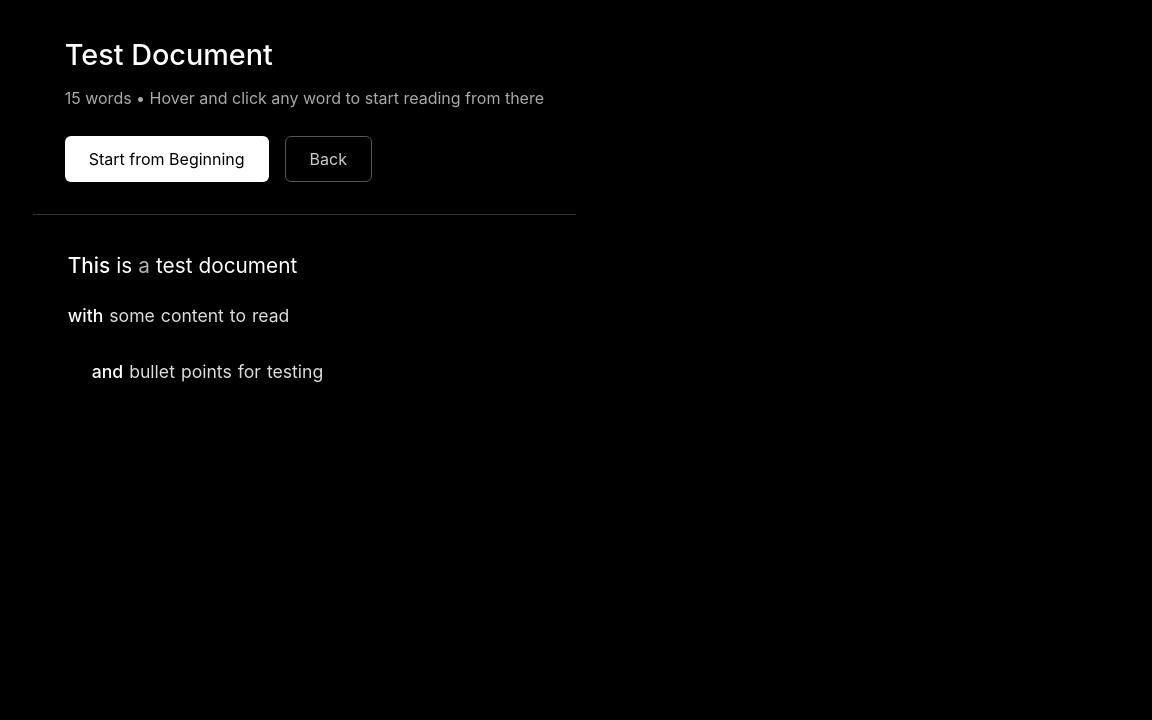
Test case: DocumentPreviewView › handles word selection and confirmation
# Click on a multi-letter word
Click the text with class "word-hoverable" showing "This": [89, 265] box [67, 251, 111, 280]
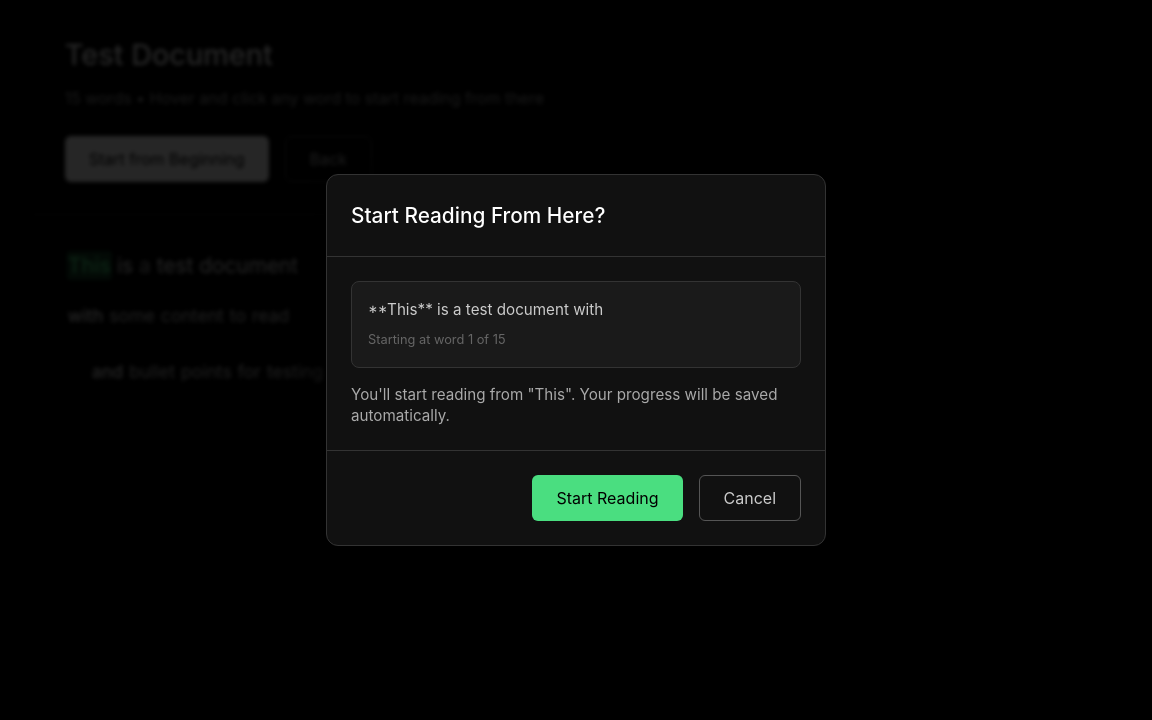
Result: the element with class "modal-overlay" is shown
Result: the heading "Start Reading From Here?" is shown at [351, 203, 605, 228]
